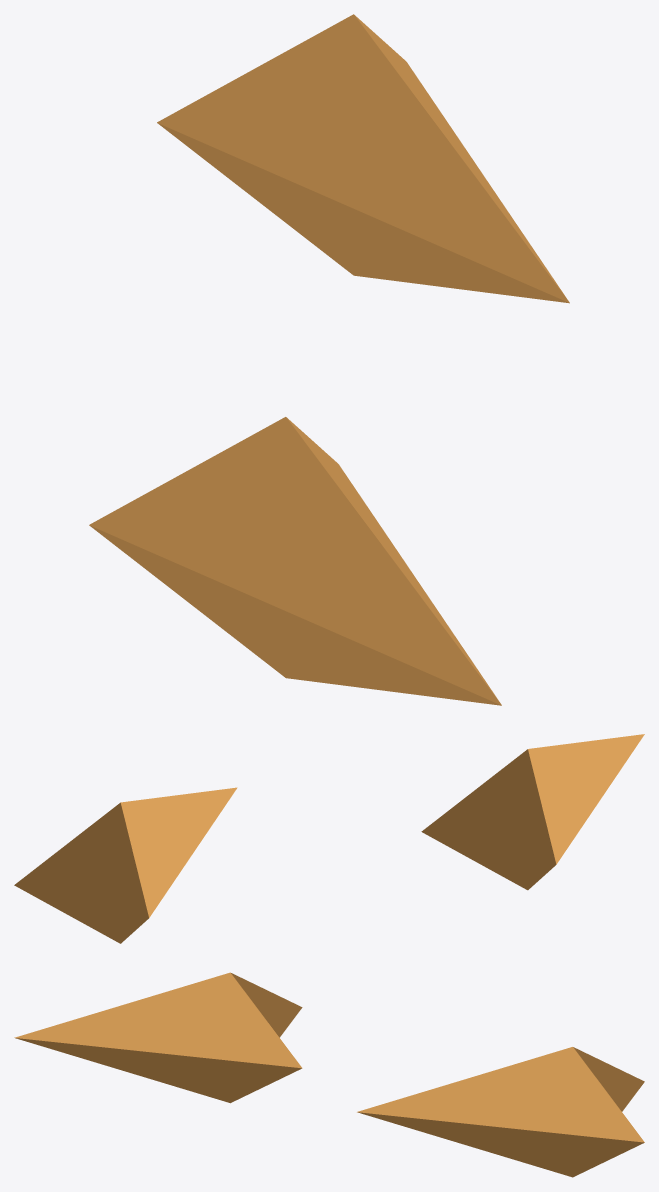
File: BronzeArrowheadStack2.glb
The picture shows the model from 3 angles, top to bottom: view 1: azimuth 30°, elevation 25°; view 2: azimuth 150°, elevation 25°; view 3: azimuth 270°, elevation 25°; orthographic projection. The views are drawn at different scales.
Parts seen in each view (by area): view 1: BronzeArrowheadStack2; view 2: BronzeArrowheadStack2; view 3: BronzeArrowheadStack2.
Part boxes in pixels (left/top/right/bottom): BronzeArrowheadStack2: left=89, top=14, right=569, bottom=705; BronzeArrowheadStack2: left=14, top=734, right=644, bottom=943; BronzeArrowheadStack2: left=14, top=972, right=644, bottom=1177.
Bounding box in the file's own units: 0.1336 × 0.0606 × 0.2211.
